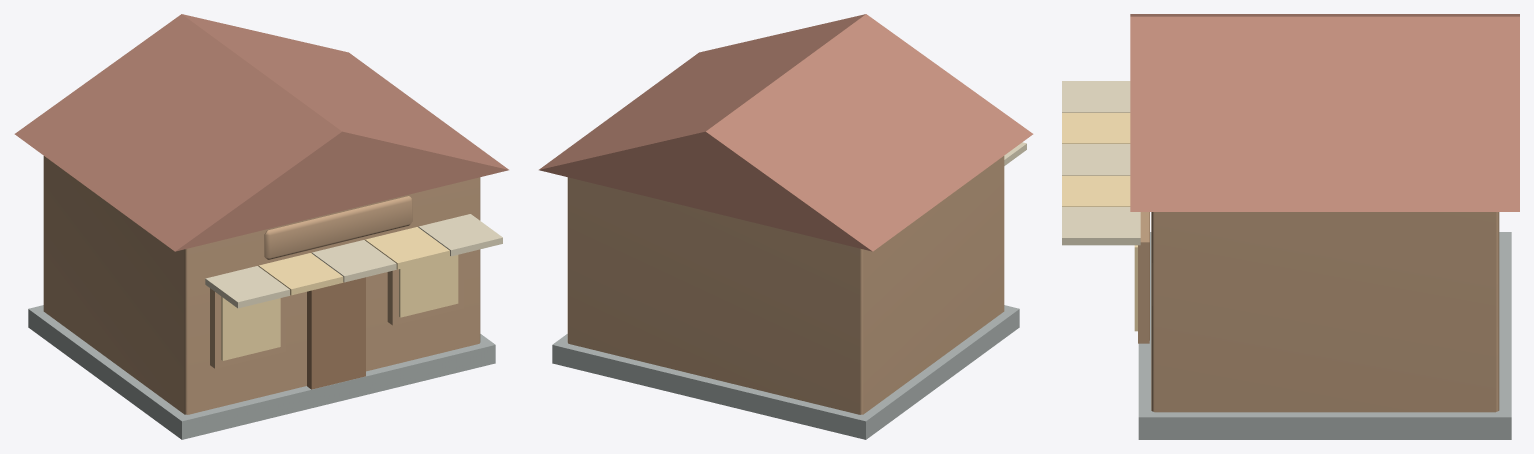
File: honeycomb-bakery.glb
The picture shows the model from 3 angles, left to right: view 1: azimuth 30°, elevation 25°; view 2: azimuth 150°, elevation 25°; view 3: azimuth 270°, elevation 25°; orthographic projection. The views are drawn at different scales.
Parts seen in each view (by area): view 1: Honeycomb bakery roof, Honeycomb bakery shop walls, Honeycomb bakery plinth, Shop door, Store sign, Display glass, Display glass.001, Striped shop canopy, Striped shop canopy.001, Striped shop canopy.002, Striped shop canopy.003, Striped shop canopy.004 (+2 smaller); view 2: Honeycomb bakery shop walls, Honeycomb bakery roof, Honeycomb bakery plinth; view 3: Honeycomb bakery roof, Honeycomb bakery shop walls, Honeycomb bakery plinth, Striped shop canopy.004, Striped shop canopy, Striped shop canopy.002, Striped shop canopy.001, Striped shop canopy.003, Display window frame.001.
Boxes of the visible parts, x1,y1,x2,y2 form: Honeycomb bakery roof: (14, 14, 508, 251); Honeycomb bakery shop walls: (43, 156, 480, 414); Honeycomb bakery plinth: (28, 305, 495, 439); Shop door: (307, 277, 365, 389); Store sign: (264, 196, 412, 259); Display glass: (221, 296, 280, 360); Display glass.001: (399, 255, 458, 317); Striped shop canopy: (205, 266, 289, 308); Striped shop canopy.001: (258, 253, 343, 295); Striped shop canopy.002: (312, 240, 396, 282); Striped shop canopy.003: (365, 227, 449, 269); Striped shop canopy.004: (418, 214, 502, 256); Honeycomb bakery shop walls: (567, 156, 1004, 414); Honeycomb bakery roof: (539, 14, 1033, 251); Honeycomb bakery plinth: (552, 305, 1019, 439); Honeycomb bakery roof: (1130, 14, 1519, 211); Honeycomb bakery shop walls: (1151, 212, 1499, 412); Honeycomb bakery plinth: (1138, 232, 1511, 439); Striped shop canopy.004: (1062, 207, 1140, 245); Striped shop canopy: (1062, 81, 1130, 112); Striped shop canopy.002: (1062, 144, 1130, 175); Striped shop canopy.001: (1062, 112, 1130, 143); Striped shop canopy.003: (1062, 175, 1130, 206); Display window frame.001: (1138, 212, 1149, 343).
Size of the model in its own units: 5.65 by 4.4 by 5.52.
